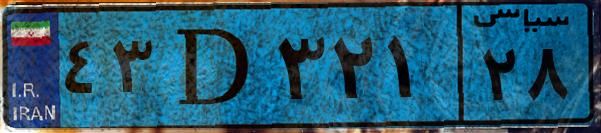1: (385, 28, 445, 110)
2: (330, 28, 385, 110), (475, 38, 525, 113)
3: (270, 28, 330, 110), (110, 28, 158, 98)
4: (57, 26, 110, 100)
8: (525, 38, 570, 115)
D: (158, 12, 270, 120)
